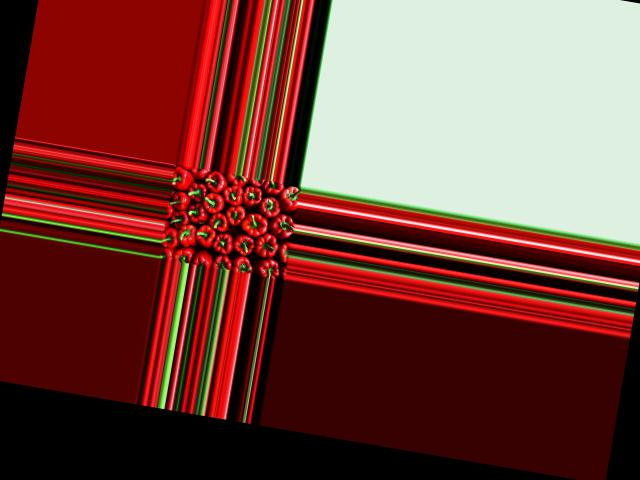bell_pepper: (172, 166, 195, 189)
